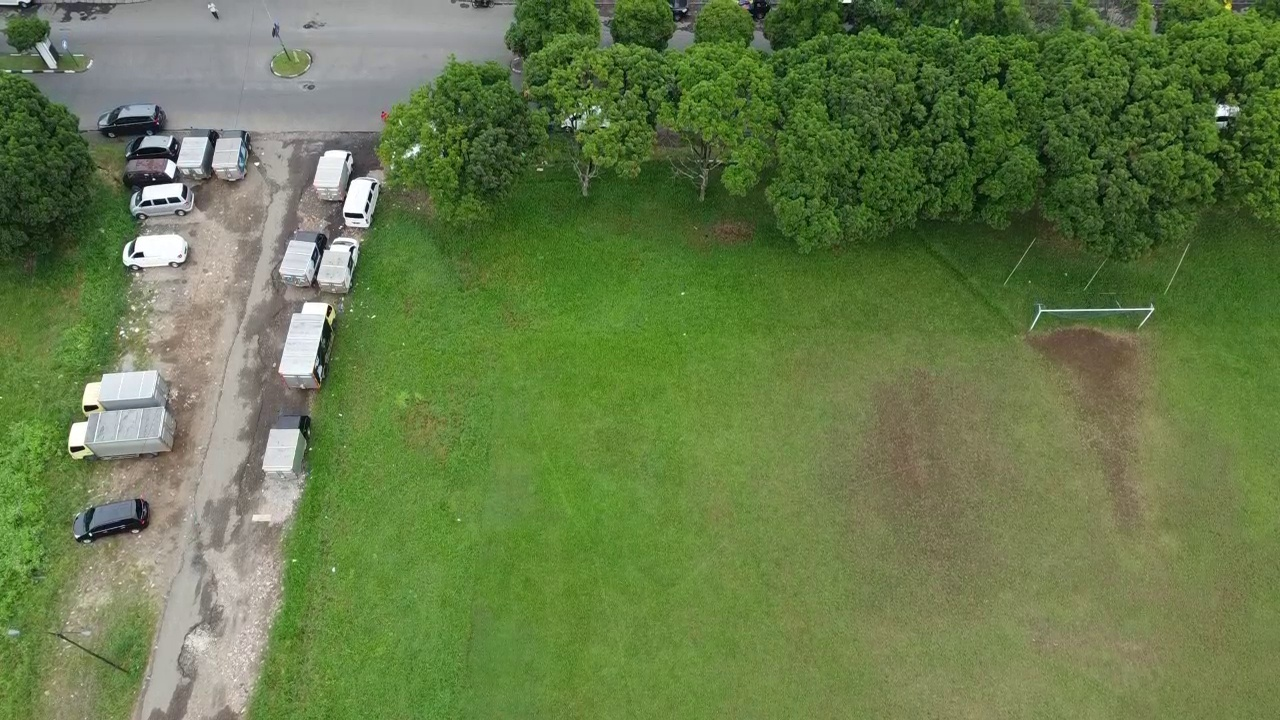mobil: (68, 496, 154, 540), (126, 177, 203, 219), (122, 230, 195, 274), (338, 177, 390, 236), (98, 96, 170, 138), (126, 128, 182, 167), (119, 156, 181, 191)
